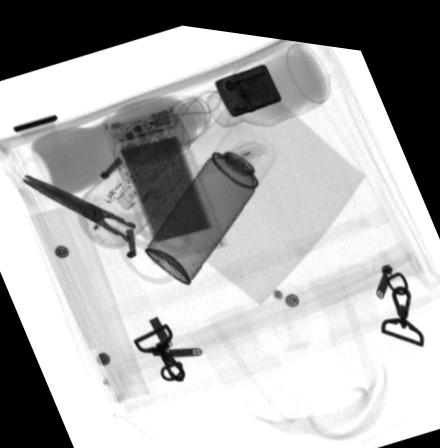Lighter: (212, 56, 282, 112)
Powerbank: (98, 103, 229, 263)
Scissors: (21, 175, 190, 280)
Sprayer: (143, 115, 274, 282)
